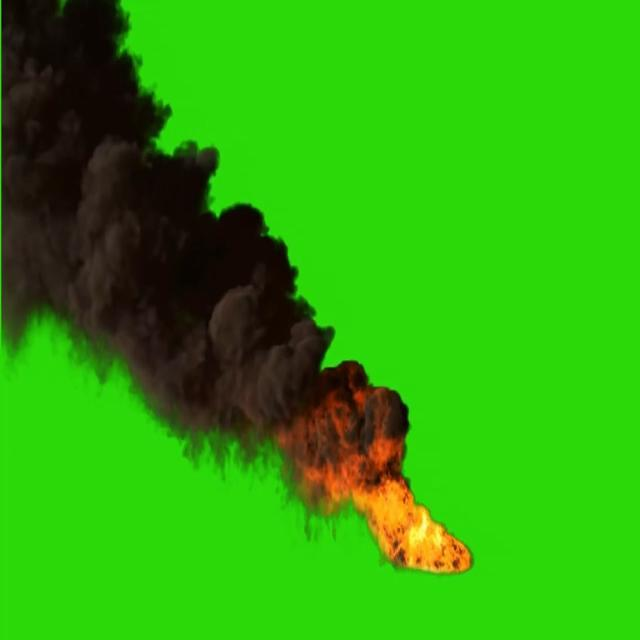Fire: (371, 484, 471, 580)
Smoke: (8, 5, 332, 475)
